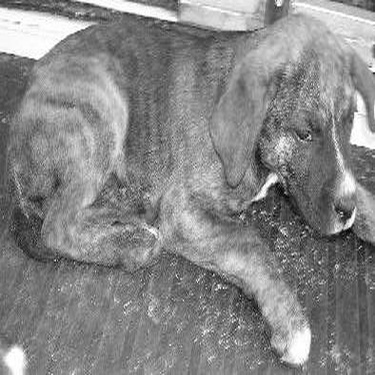dog: (7, 8, 371, 367)
